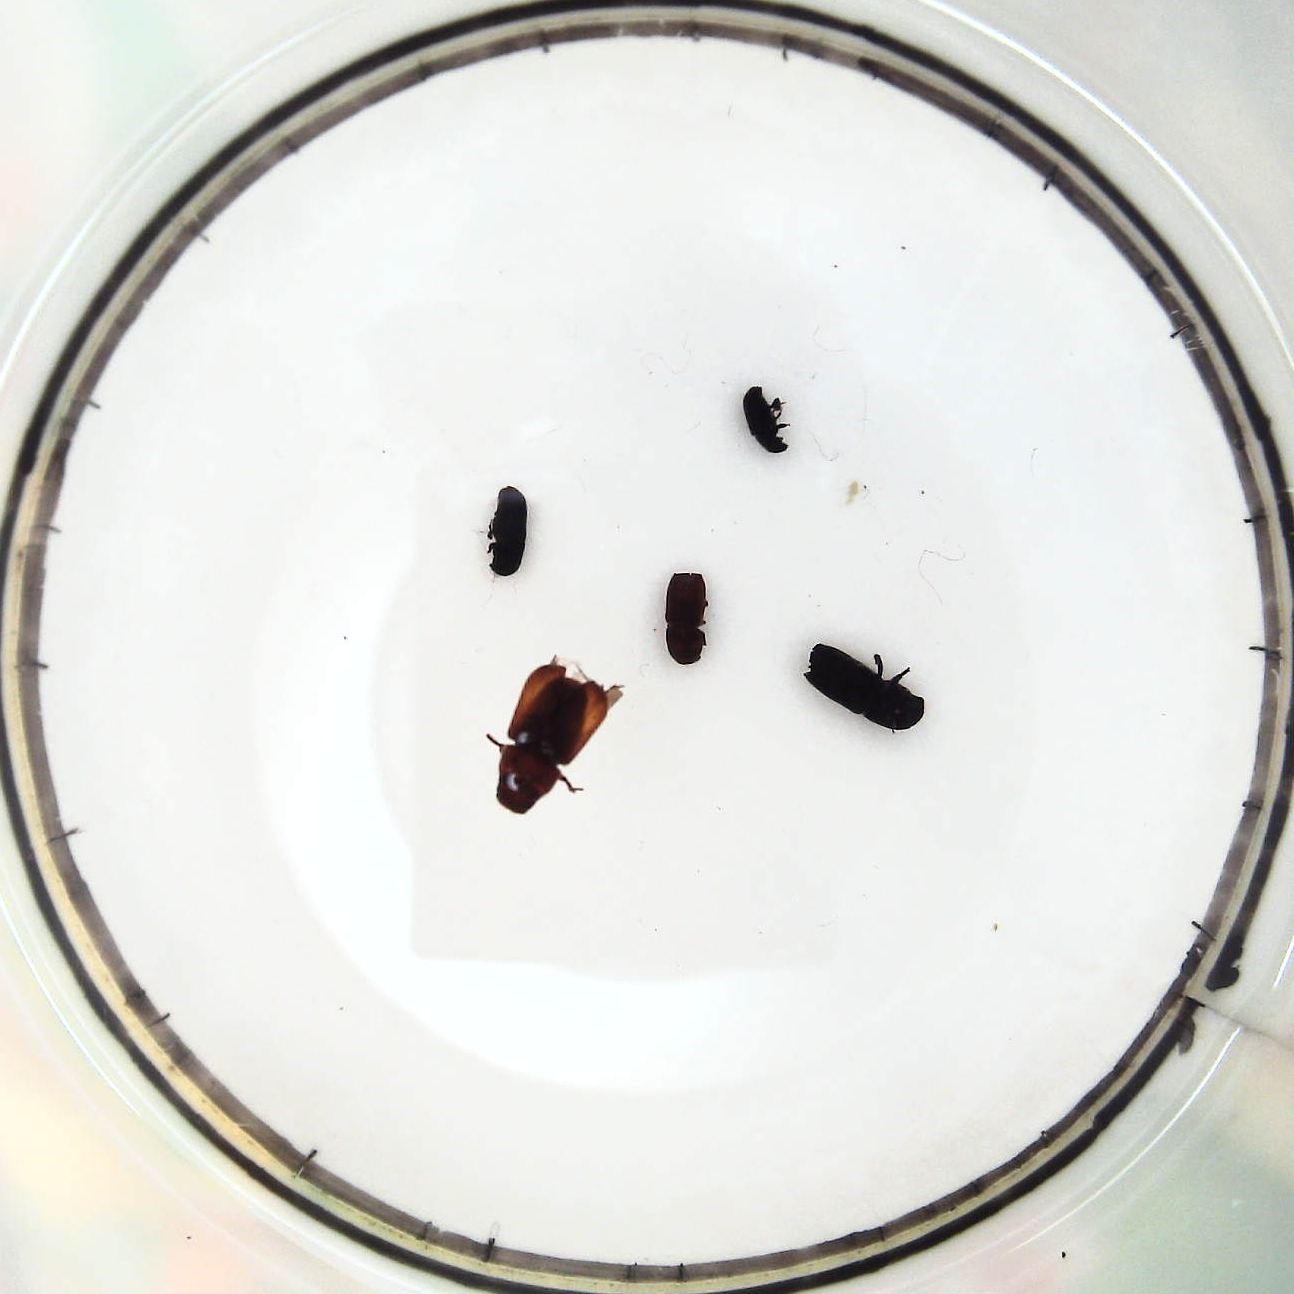Boerner: (806, 638, 929, 734)
Leconte: (493, 661, 626, 815)
Linnaeus: (664, 568, 711, 661)
armandi: (485, 485, 530, 579)
coleoptera: (742, 380, 787, 456)
